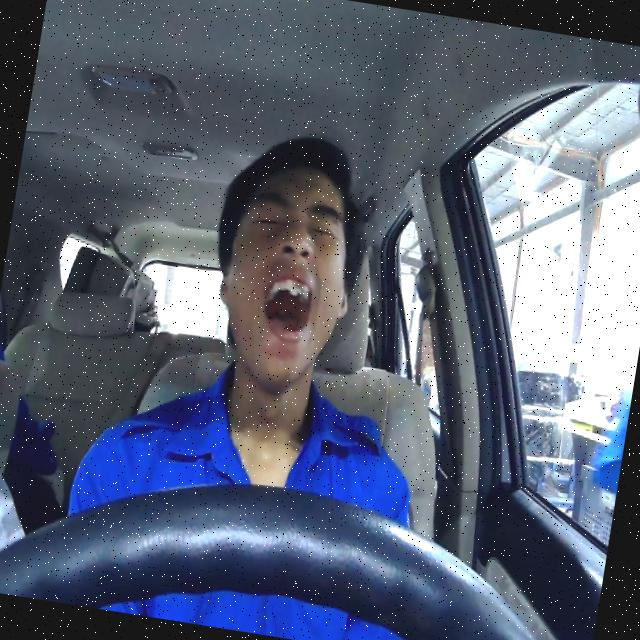yarning: (202, 157, 368, 396)
